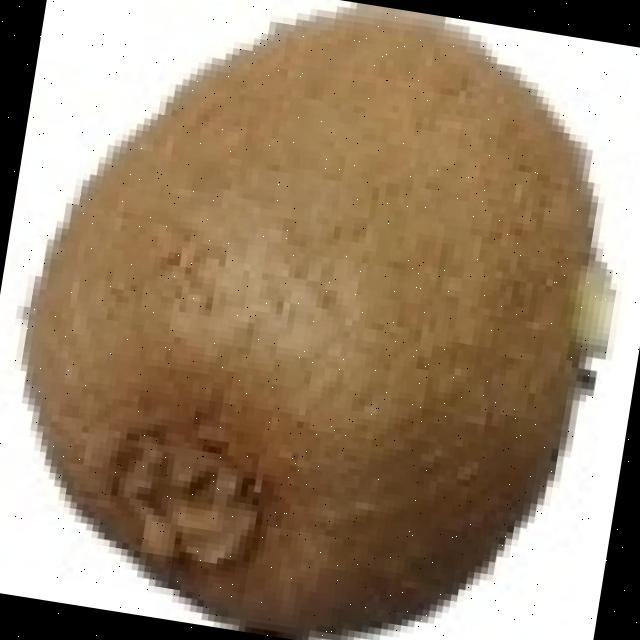kiwi: (20, 5, 598, 618)
